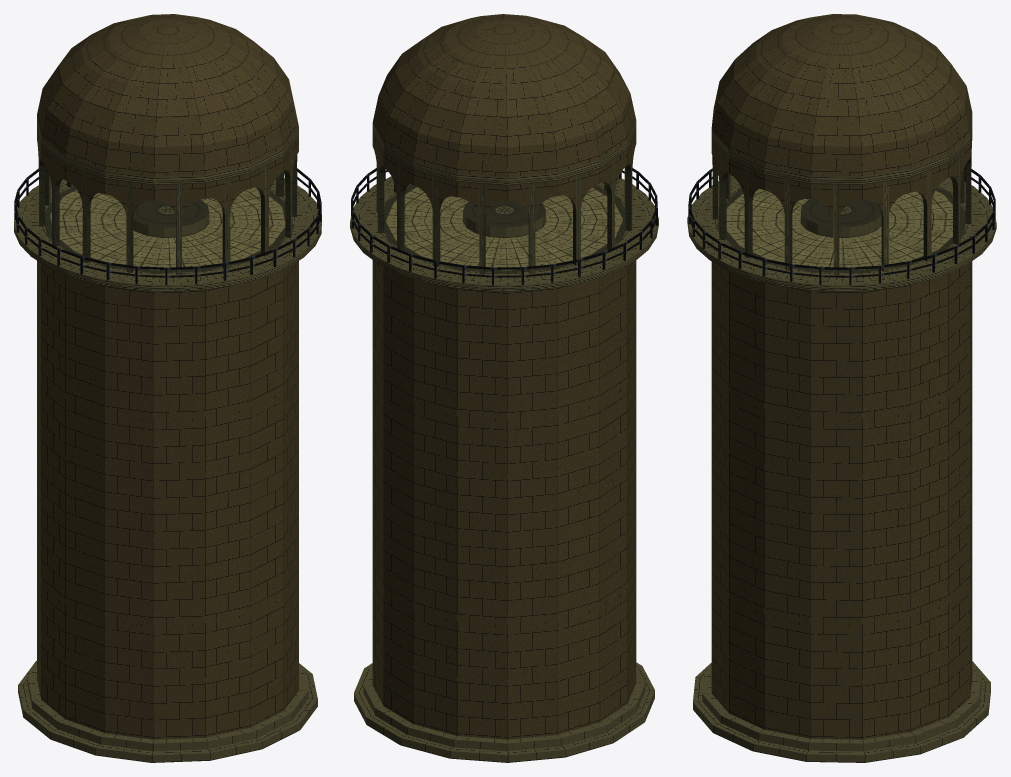
The model's file is marble_tower.glb.
3 renders of one model, left to right at view 1: azimuth 30°, elevation 25°; view 2: azimuth 150°, elevation 25°; view 3: azimuth 270°, elevation 25°, orthographic.
Parts seen in each view (by area): view 1: MarbleTowerRock; view 2: MarbleTowerRock; view 3: MarbleTowerRock.
Boxes of the visible parts, bbox=[...] form: MarbleTowerRock: bbox=[14, 14, 321, 762]; MarbleTowerRock: bbox=[350, 14, 658, 762]; MarbleTowerRock: bbox=[687, 14, 996, 762].
Size of what is drawn, in the model's own units: 16.38 by 39.25 by 16.38.
Materials: 11 (11 with a texture image).
